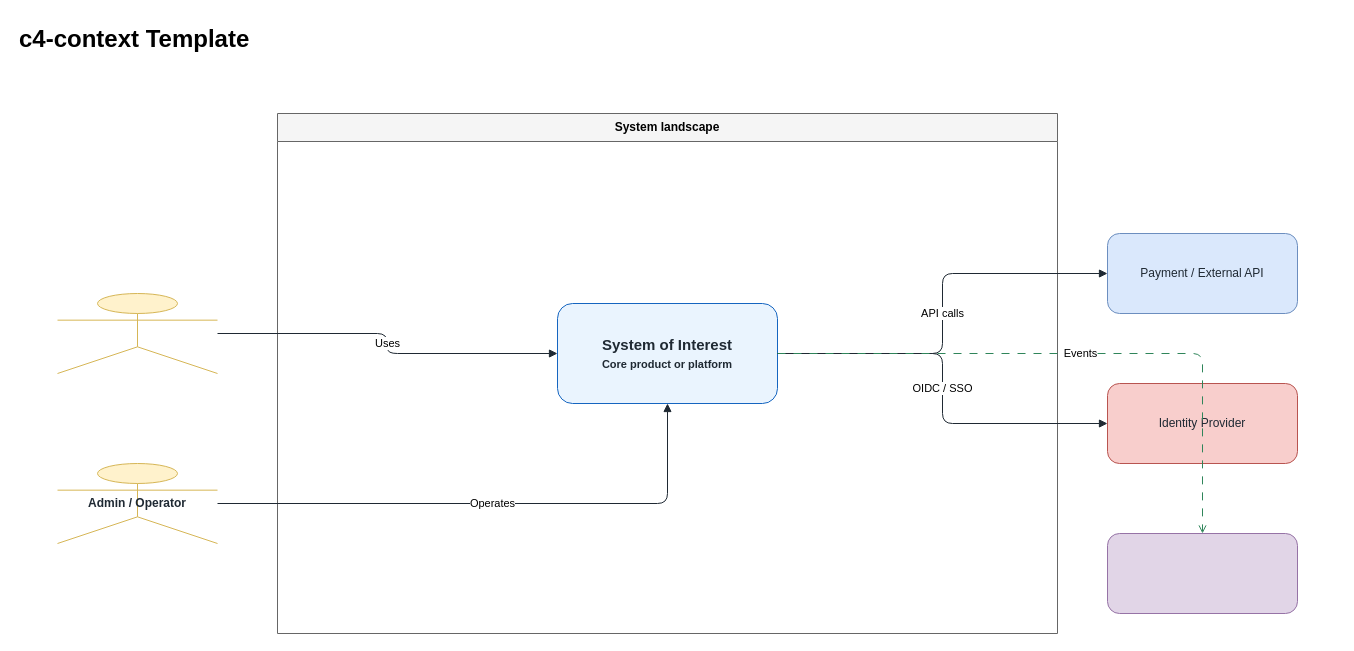
The diagram is 1354 pixels wide and 651 high, and some of its shapes have lost their labels. Here are the shapes that lost their labels. From the top down, the centre of each, then its label:
At [137,333]: "Customer / User".
At [1202,573]: "Analytics Platform".
